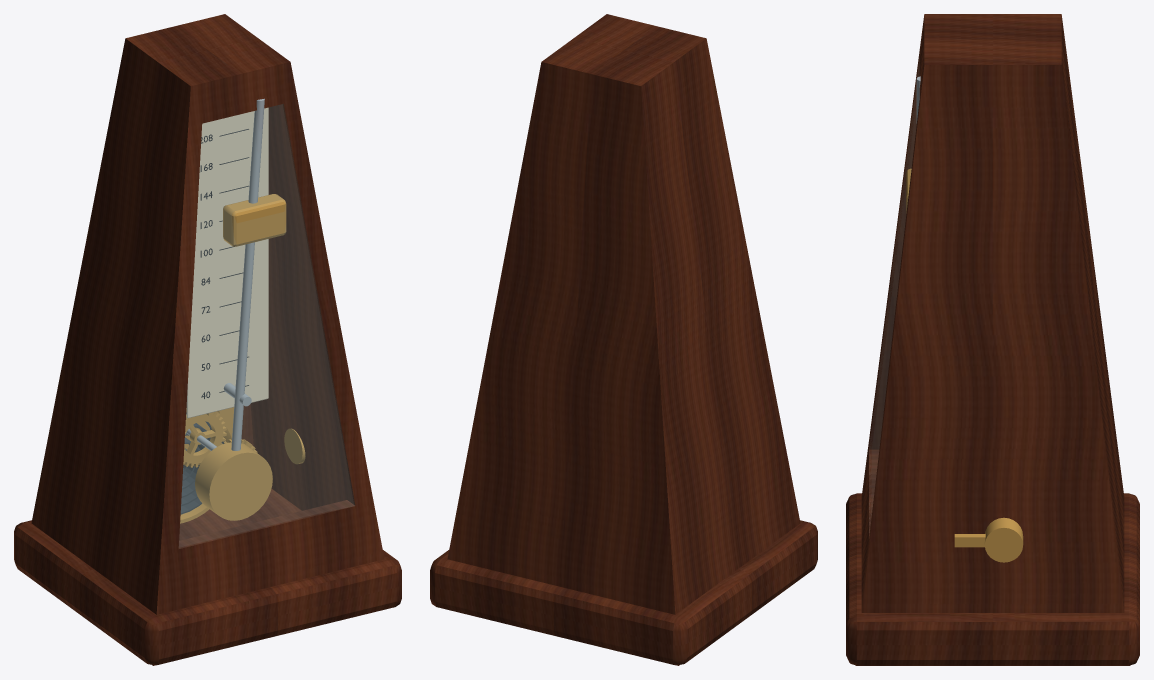
The model's file is 15_Metronome.glb.
The picture shows the model from 3 angles, left to right: view 1: azimuth 30°, elevation 25°; view 2: azimuth 150°, elevation 25°; view 3: azimuth 270°, elevation 25°; orthographic projection. The views are drawn at different scales.
Parts seen in each view (by area): view 1: 01_pyramid_case_and_clear_front_cover, 02_tempo_scale_and_winding_handle, 03_pendulum_sliding_weight_and_counterweight, 06_mainspring_and_main_plate, 05_clockwork_gear_train; view 2: 01_pyramid_case_and_clear_front_cover; view 3: 01_pyramid_case_and_clear_front_cover, 02_tempo_scale_and_winding_handle.
Boxes of the visible parts, x1,y1,x2,y2 form: 01_pyramid_case_and_clear_front_cover: (14, 14, 401, 665); 02_tempo_scale_and_winding_handle: (186, 107, 268, 418); 03_pendulum_sliding_weight_and_counterweight: (195, 98, 286, 520); 06_mainspring_and_main_plate: (180, 407, 234, 523); 05_clockwork_gear_train: (183, 411, 257, 467); 01_pyramid_case_and_clear_front_cover: (430, 14, 817, 665); 01_pyramid_case_and_clear_front_cover: (846, 14, 1139, 665); 02_tempo_scale_and_winding_handle: (954, 534, 985, 547).
Size of the model in its own units: 0.113 by 0.227 by 0.107.
8 materials, 1 textured.
